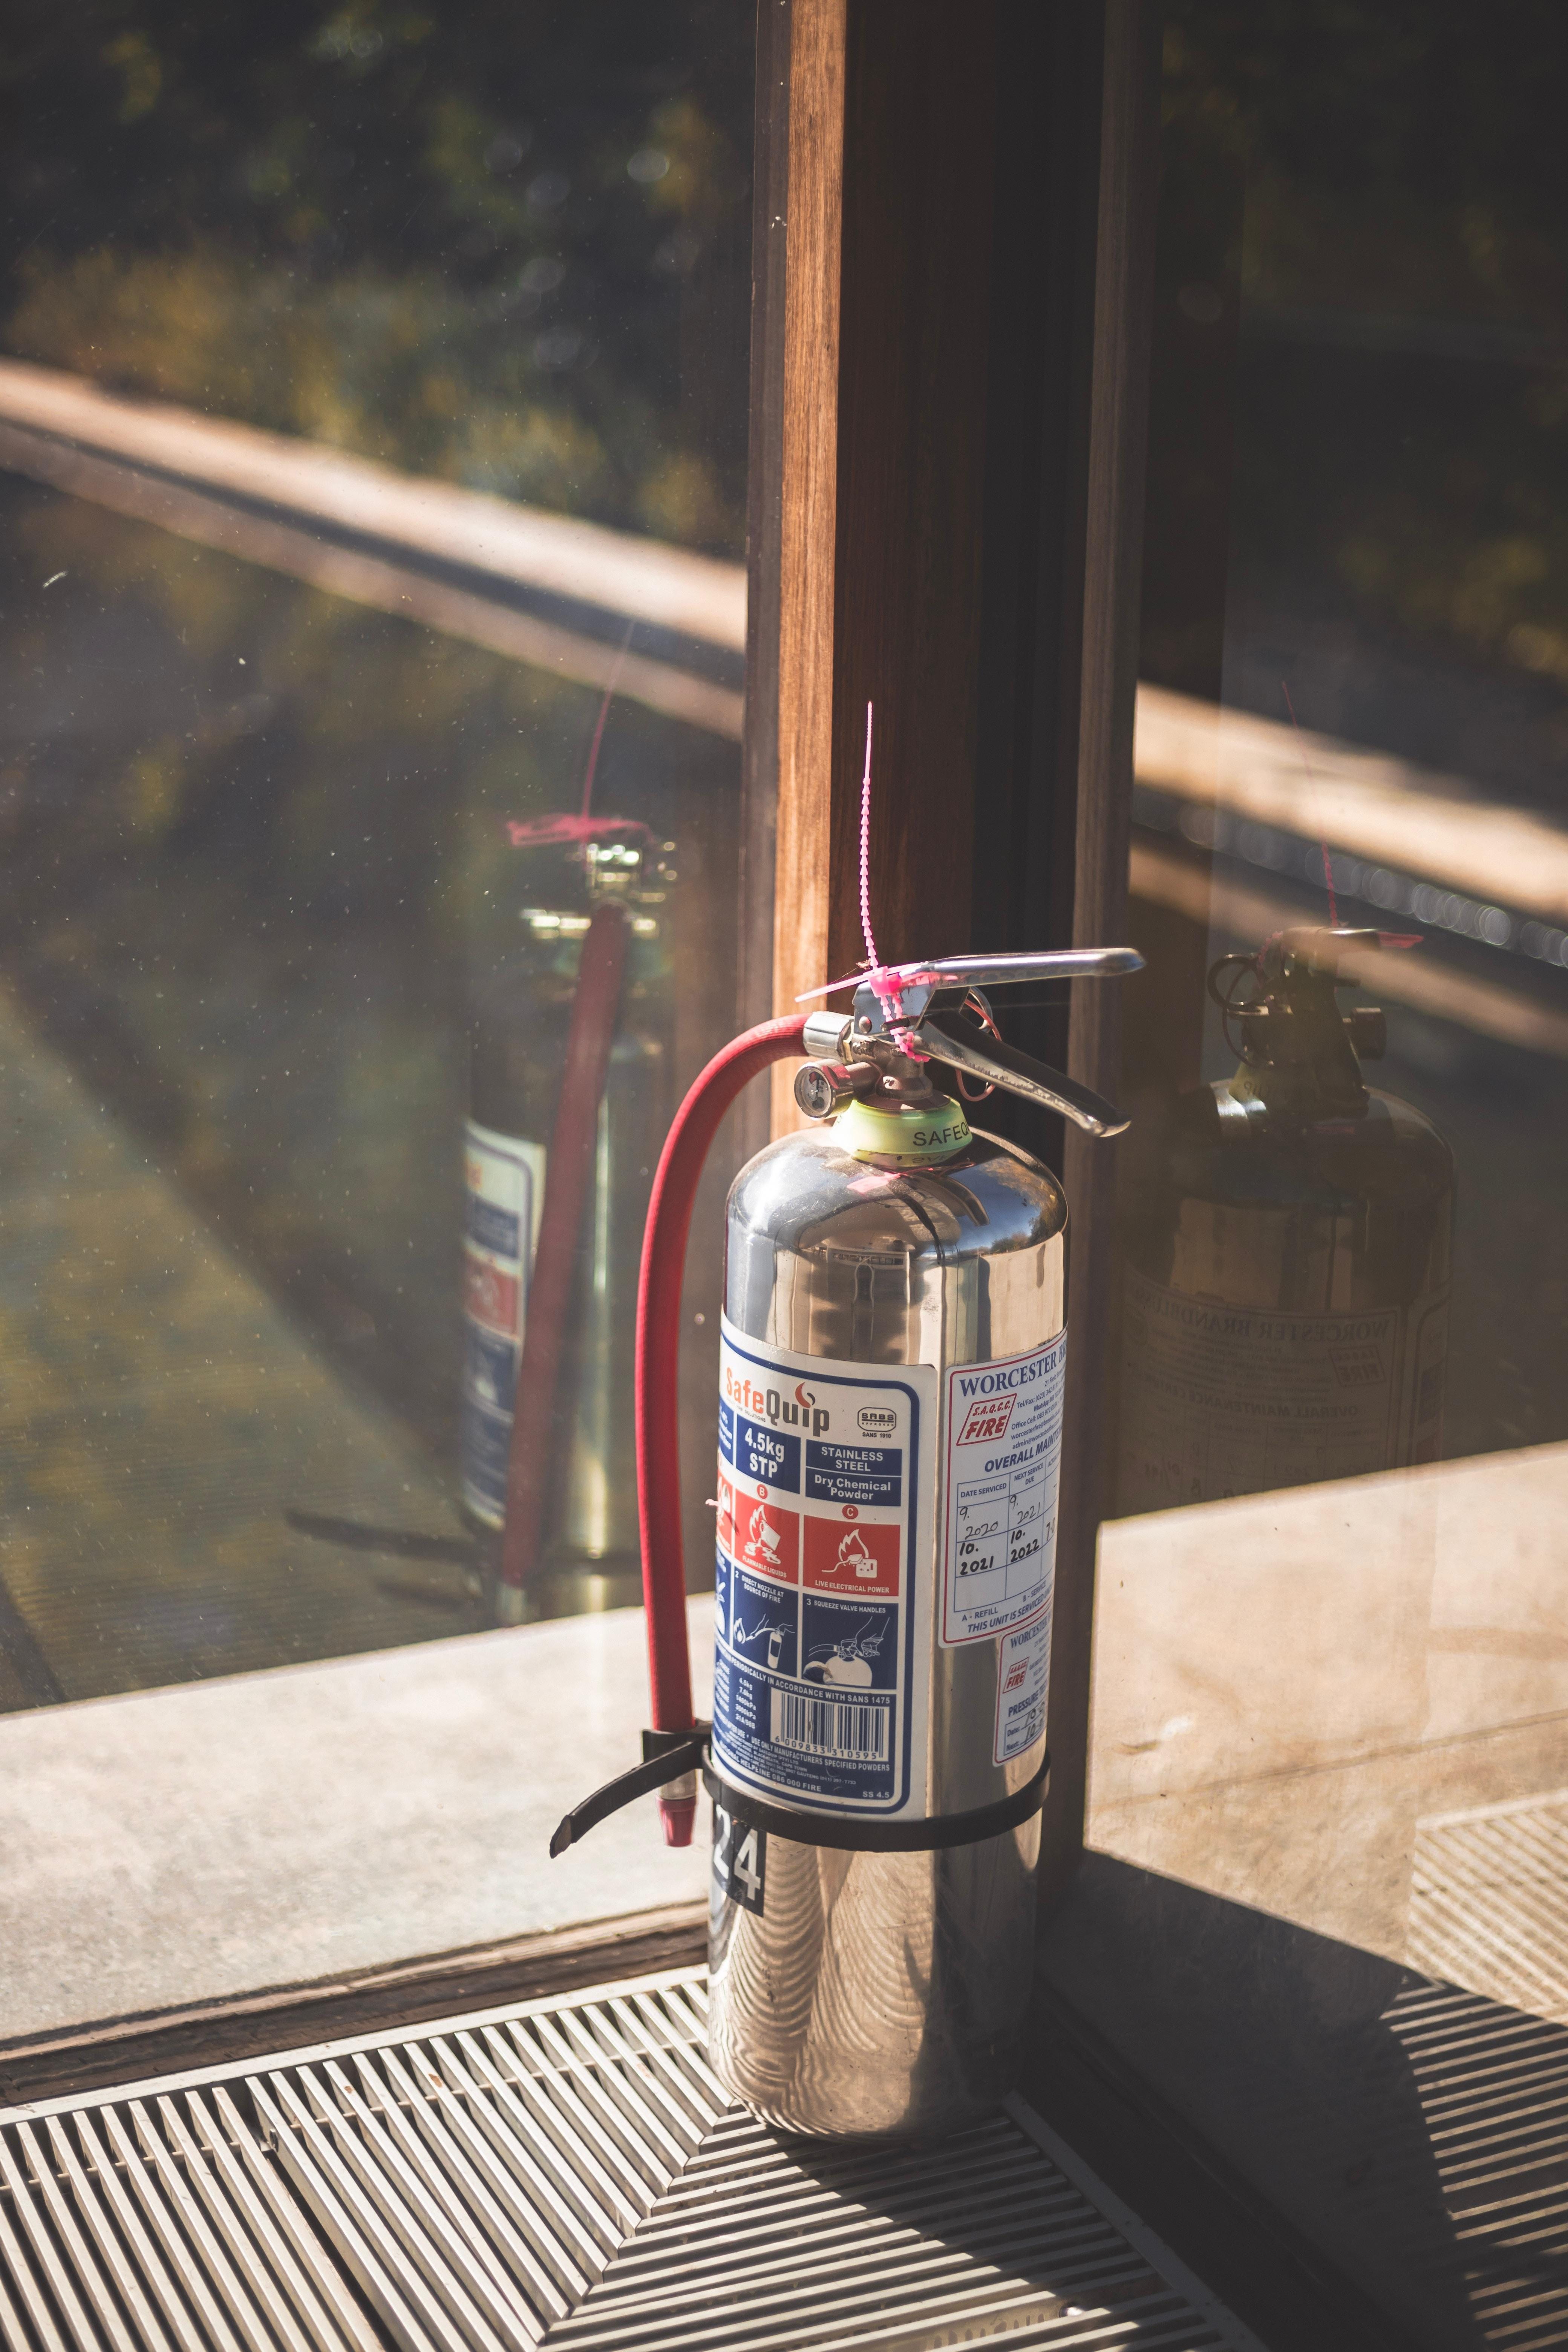Fire Extinguisher: (611, 1018, 1101, 2156)
